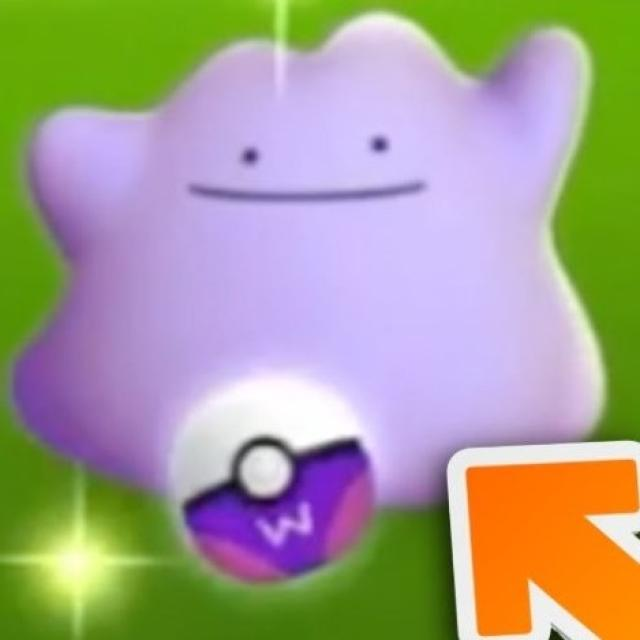Ditto: (12, 12, 604, 437)
